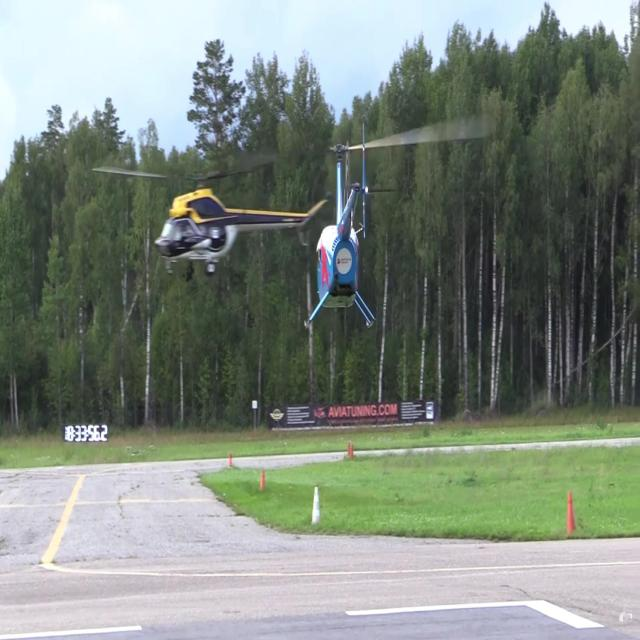CIV_HELO: (154, 172, 331, 284)
